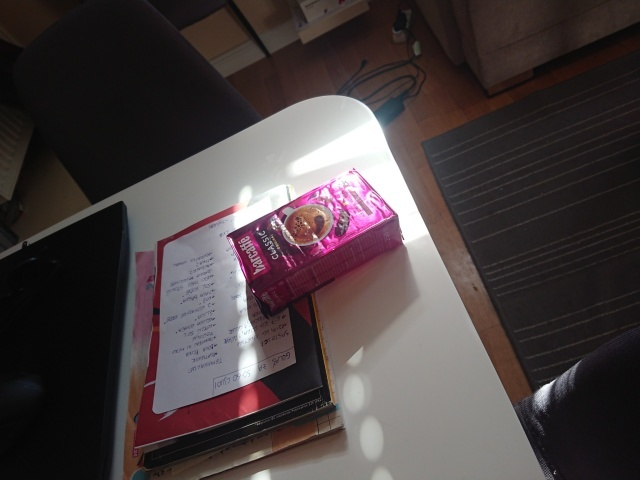Barcaffe Classic Original 225g: (224, 165, 407, 322)
